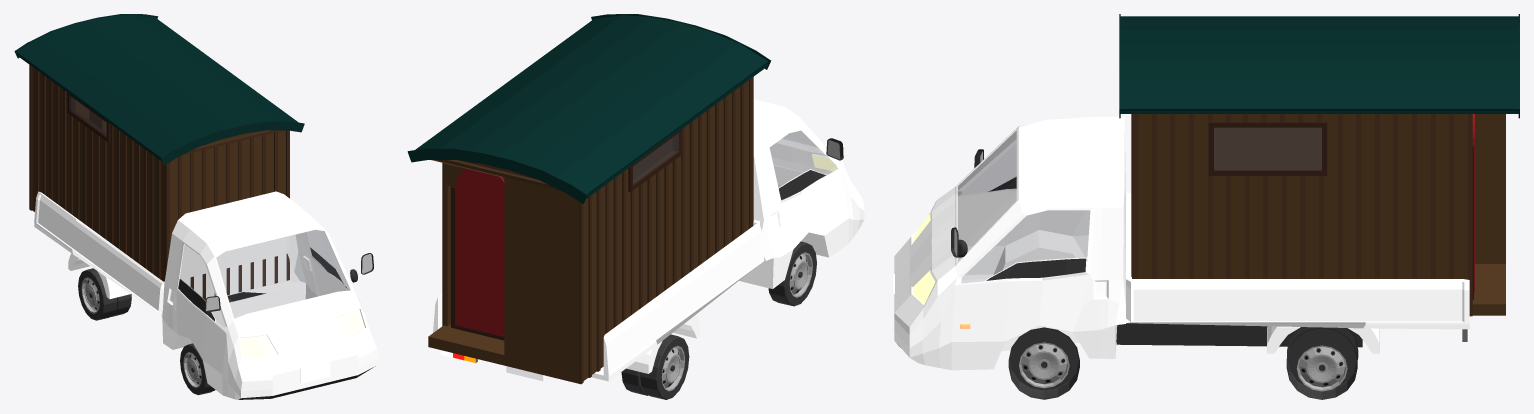
The model's file is bongo.glb.
3 renders of one model, left to right at view 1: azimuth 30°, elevation 25°; view 2: azimuth 150°, elevation 25°; view 3: azimuth 270°, elevation 25°, orthographic. The views are drawn at different scales.
Parts seen in each view (by area): view 1: bongo_body, roof, wall_right, oshibuchi_right, wall_front, 平面.004, tire_rr_outside, 平面.003, tire_fr, wheel_rr, wheel_fr, number_f (+3 smaller); view 2: roof, bongo_body, wall_right, oshibuchi_right, wall_rear, door, floor, tire_rr_outside, 平面.003, wall_left, tire_fr, wheel_fr (+6 smaller); view 3: bongo_body, roof, wall_left, oshibuchi_left, window_left, wall_right, wall_door_side, tire_rl_outside, tire_fl, wheel_fl, wheel_rl, floor (+3 smaller).
Part boxes in pixels (left/top/right/bottom): bongo_body: left=34, top=191, right=378, bottom=399; roof: left=14, top=14, right=304, bottom=165; wall_right: left=32, top=67, right=170, bottom=281; oshibuchi_right: left=29, top=65, right=165, bottom=281; wall_front: left=170, top=130, right=284, bottom=240; 平面.004: left=166, top=130, right=289, bottom=300; tire_rr_outside: left=78, top=268, right=117, bottom=320; 平面.003: left=68, top=93, right=107, bottom=140; tire_fr: left=180, top=343, right=215, bottom=395; wheel_rr: left=81, top=277, right=99, bottom=313; wheel_fr: left=183, top=352, right=201, bottom=388; number_f: left=300, top=361, right=330, bottom=383; roof: left=407, top=14, right=771, bottom=203; bongo_body: left=433, top=99, right=864, bottom=381; wall_right: left=575, top=80, right=748, bottom=373; oshibuchi_right: left=579, top=77, right=752, bottom=384; wall_rear: left=504, top=177, right=575, bottom=372; door: left=455, top=168, right=504, bottom=336; floor: left=428, top=324, right=603, bottom=383; tire_rr_outside: left=640, top=334, right=689, bottom=399; 平面.003: left=631, top=130, right=681, bottom=188; wall_left: left=443, top=163, right=450, bottom=326; tire_fr: left=768, top=241, right=816, bottom=306; wheel_fr: left=789, top=252, right=812, bottom=297; bongo_body: left=894, top=116, right=1469, bottom=370; roof: left=1119, top=14, right=1519, bottom=118; wall_left: left=1138, top=114, right=1467, bottom=279; oshibuchi_left: left=1133, top=114, right=1472, bottom=316; window_left: left=1211, top=125, right=1324, bottom=173; wall_right: left=1214, top=127, right=1321, bottom=168; wall_door_side: left=1475, top=114, right=1500, bottom=263; tire_rl_outside: left=1286, top=327, right=1357, bottom=399; tire_fl: left=1008, top=327, right=1079, bottom=399; wheel_fl: left=1019, top=342, right=1069, bottom=388; wheel_rl: left=1296, top=345, right=1347, bottom=391; floor: left=1472, top=264, right=1505, bottom=315.
Bounding box in the file's own units: 1.99 × 2.75 × 4.99.
18 materials, 1 textured.
